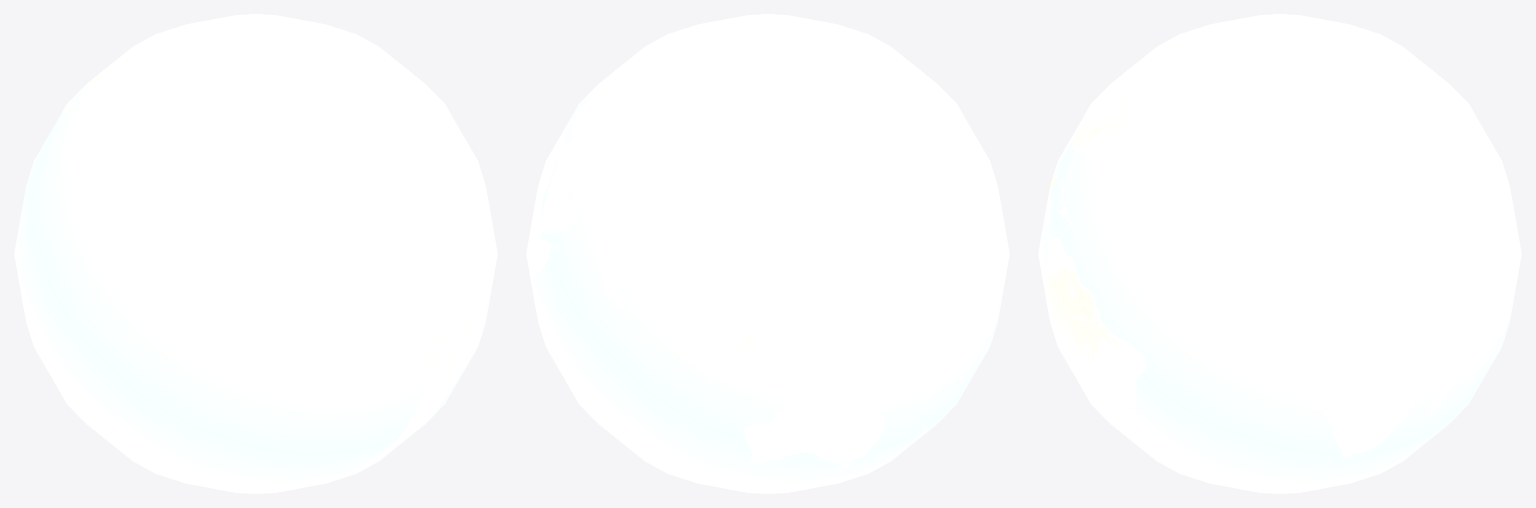
Rendered from Planet-M.gltf.
3 views of the same model, side by side, from view 1: azimuth 30°, elevation 25°; view 2: azimuth 150°, elevation 25°; view 3: azimuth 270°, elevation 25° (orthographic).
Parts seen in each view (by area): view 1: Sphere; view 2: Sphere; view 3: Sphere.
Part boxes in pixels (<box>): Sphere: <box>14,14,497,493</box>; Sphere: <box>526,14,1009,493</box>; Sphere: <box>1038,14,1521,493</box>.
Size of the model in its own units: 3.33 by 3.33 by 3.33.
Materials: 1 (1 with a texture image).
